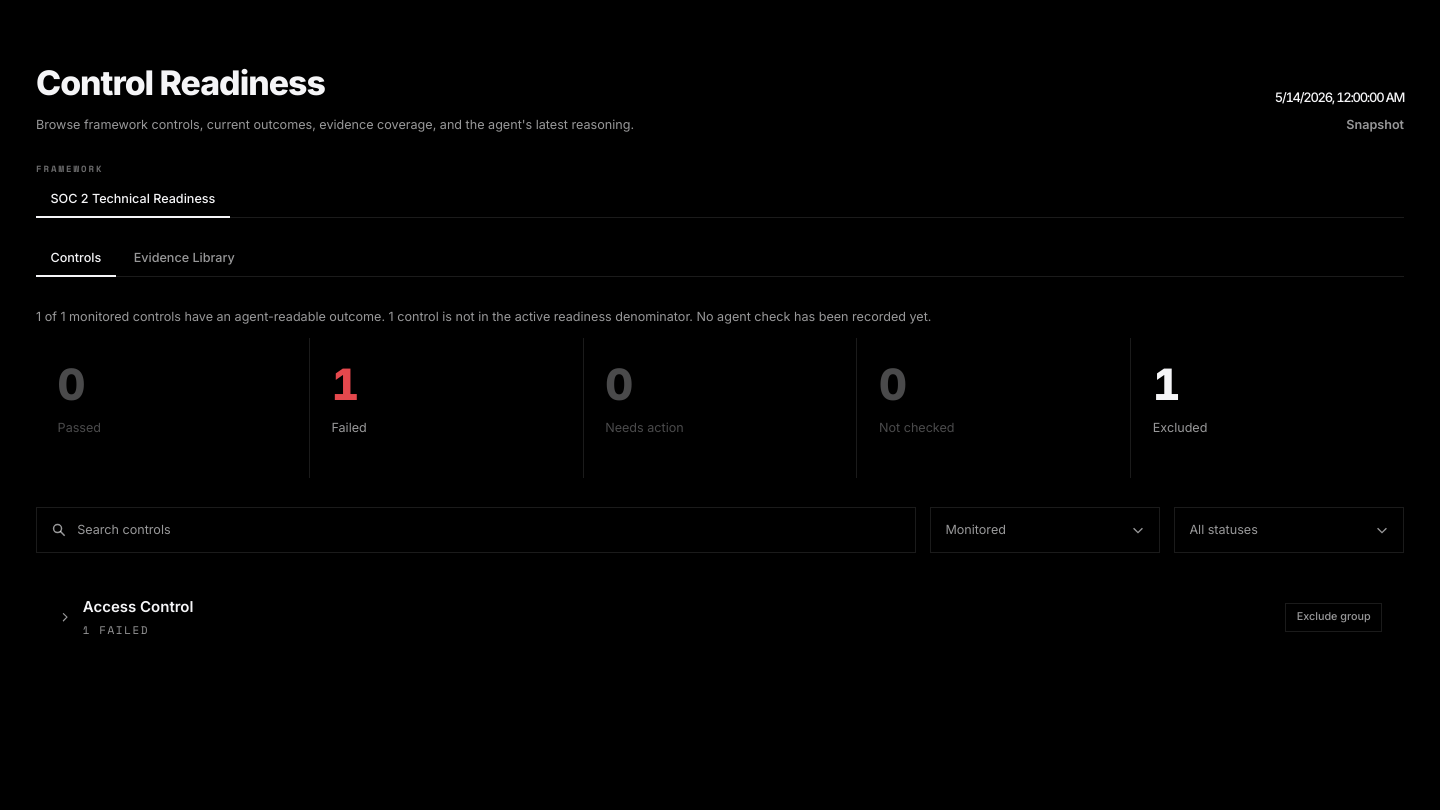
Test: CompliancePage › normalizes an older readiness response without outcome fields
The width and height of the screenshot is (1440, 810).
Expected: the text "1 of 1 monitored controls have an agent-readable outcome" is shown, left=36, top=309, right=932, bottom=324
Click the button "Access Control 1 Failed": (138, 606) left=58, top=596, right=1274, bottom=639
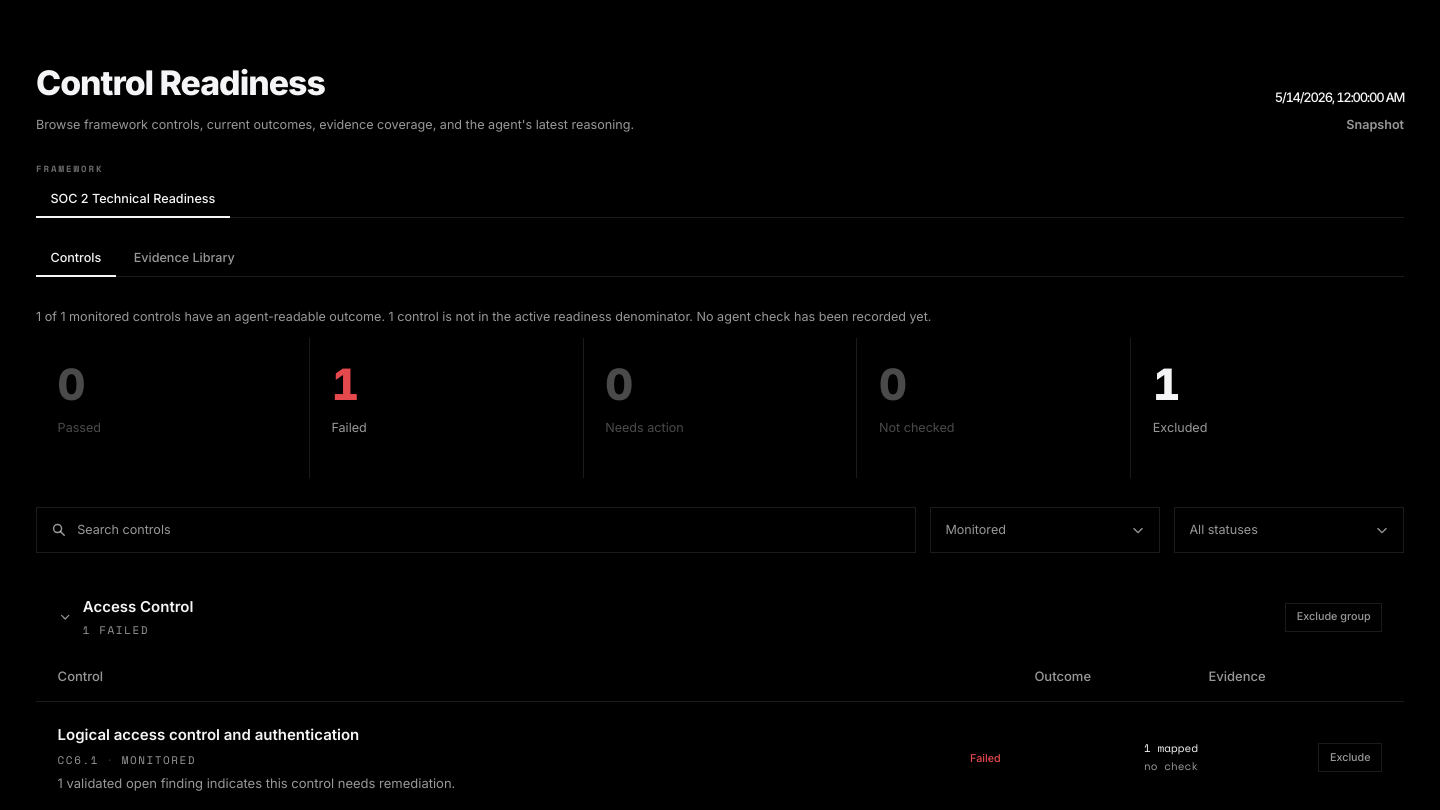
Now the text "CC6.1" is shown, box left=58, top=752, right=99, bottom=768
